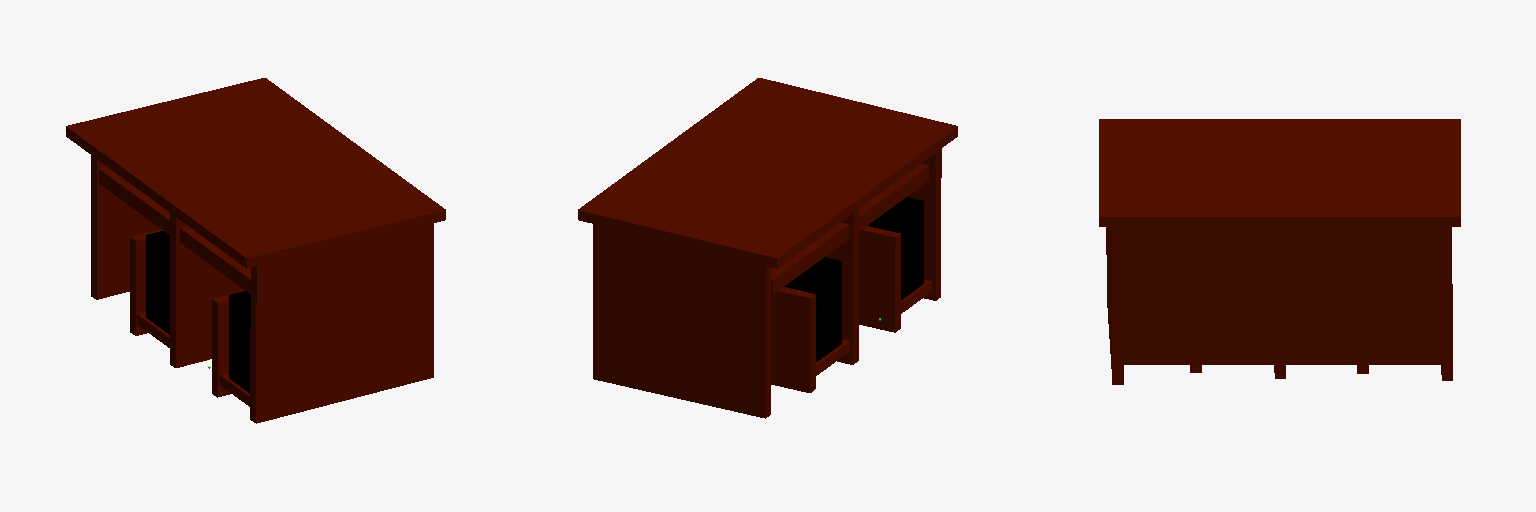
File: mejanew.obj
3 renders of one model, left to right at view 1: azimuth 30°, elevation 25°; view 2: azimuth 150°, elevation 25°; view 3: azimuth 270°, elevation 25°, orthographic.
Visible parts, largest first — view 1: Cube_Cube.017, Cube.002_Cube.003, Cube.004_Cube.005, Cube.003_Cube.004, Cube.005_Cube.006, Cube.011_Cube.001, Cube.012_Cube.010, Cube.006_Cube.007, Cube.008_Cube.009; view 2: Cube_Cube.017, Cube.003_Cube.004, Cube.008_Cube.009, Cube.006_Cube.007, Cube.005_Cube.006, Cube.011_Cube.001, Cube.012_Cube.010, Cube.004_Cube.005, Cube.002_Cube.003; view 3: Cube.001_Cube.002, Cube_Cube.017, Cube.002_Cube.003, Cube.003_Cube.004.
Part boxes in pixels (x1,y1,x2,y2): Cube_Cube.017: (66, 78, 445, 268); Cube.002_Cube.003: (250, 223, 433, 423); Cube.004_Cube.005: (170, 213, 243, 367); Cube.003_Cube.004: (91, 155, 160, 299); Cube.005_Cube.006: (99, 167, 250, 293); Cube.011_Cube.001: (146, 231, 169, 334); Cube.012_Cube.010: (229, 291, 250, 392); Cube.006_Cube.007: (212, 290, 244, 397); Cube.008_Cube.009: (130, 229, 162, 335); Cube_Cube.017: (578, 78, 957, 268); Cube.003_Cube.004: (593, 224, 771, 418); Cube.008_Cube.009: (771, 287, 815, 392); Cube.006_Cube.007: (859, 226, 900, 332); Cube.005_Cube.006: (771, 164, 928, 294); Cube.011_Cube.001: (784, 257, 841, 361); Cube.012_Cube.010: (868, 197, 923, 299); Cube.004_Cube.005: (825, 209, 858, 364); Cube.002_Cube.003: (907, 149, 941, 300); Cube.001_Cube.002: (1123, 227, 1440, 364); Cube_Cube.017: (1099, 119, 1460, 226); Cube.002_Cube.003: (1106, 227, 1123, 384); Cube.003_Cube.004: (1440, 227, 1452, 380).
Size of the model in its own units: 4.15 by 3.49 by 6.52.